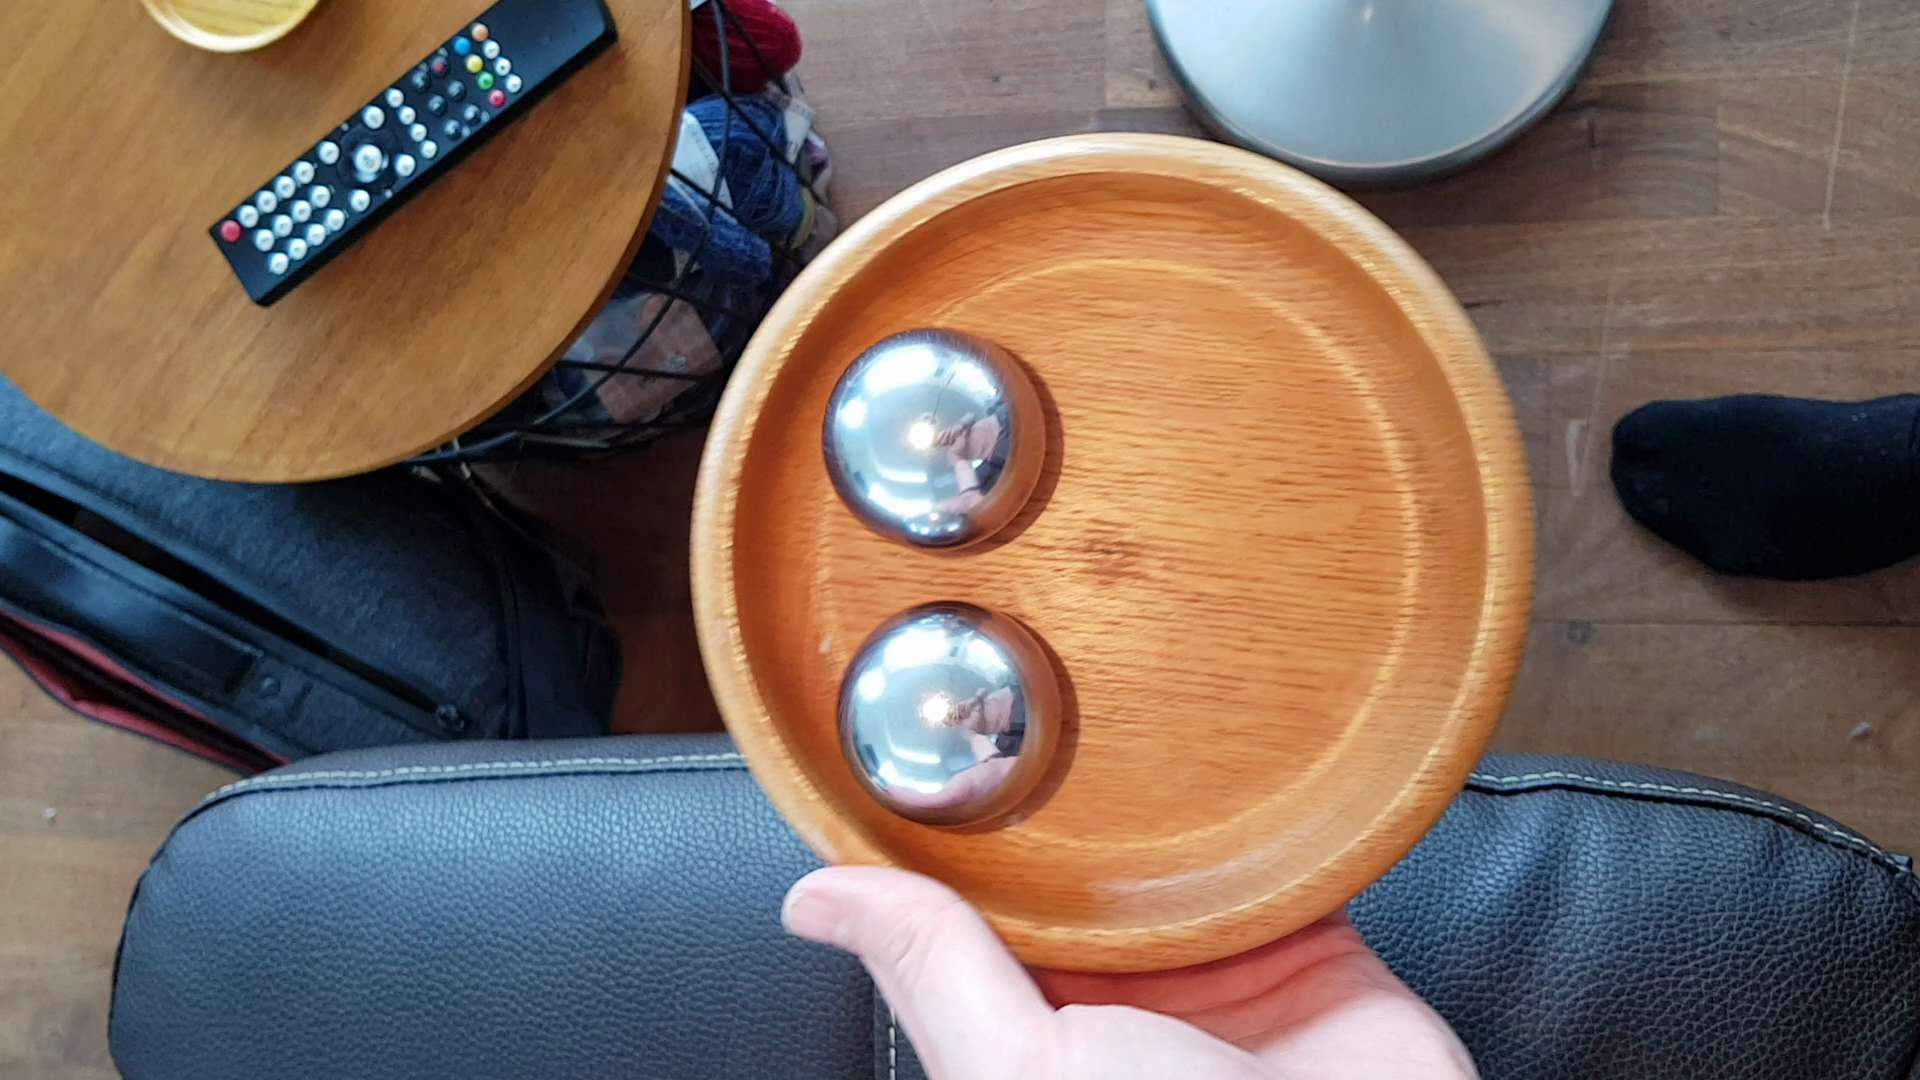sphere: (827, 591, 1085, 839), (814, 314, 1055, 549)
